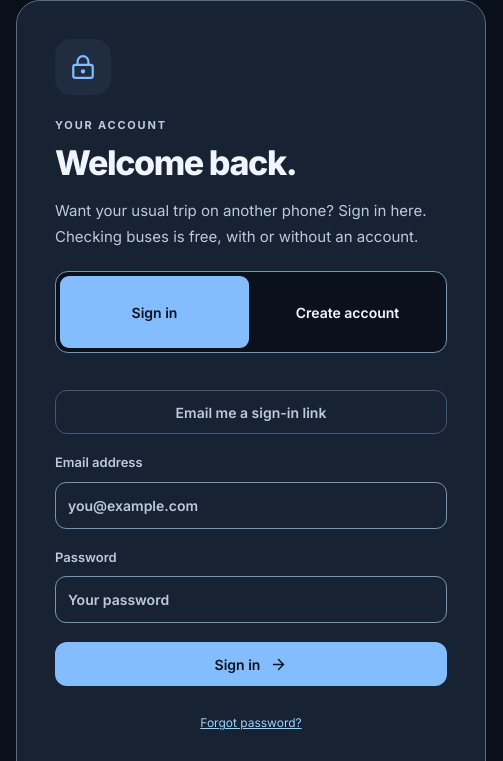
Test: commute UI › creates an account without duplicating commute data in auth metadata
Click the button "Create account" at (348, 312), box top-left (253, 276), bottom-right (442, 348)
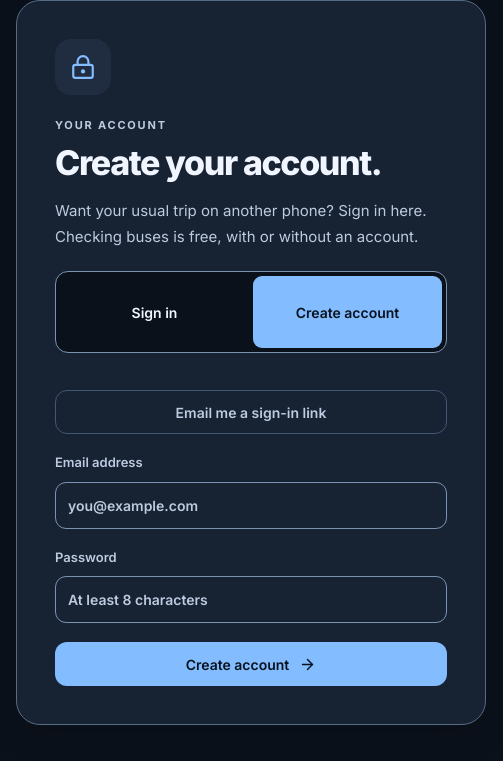
Type "employee@example.com" into the field labelled "Email address" at (251, 505), box top-left (55, 482), bottom-right (447, 529)
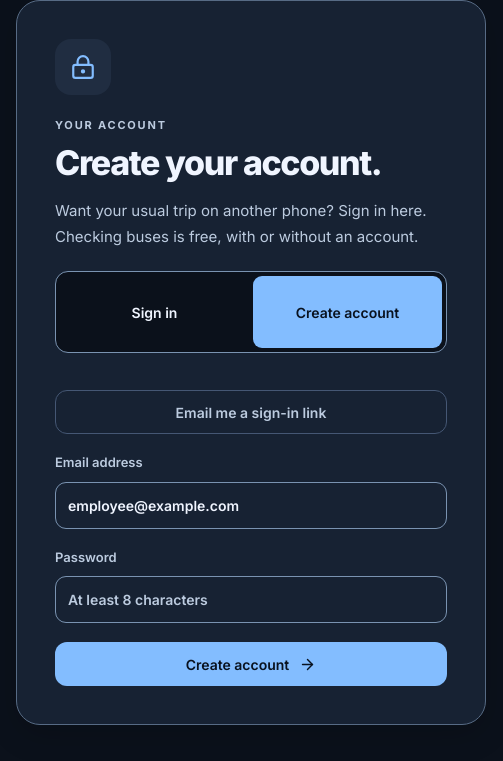
Type "example-password" into the password field labelled "Password" at (251, 600), box top-left (55, 576), bottom-right (447, 623)
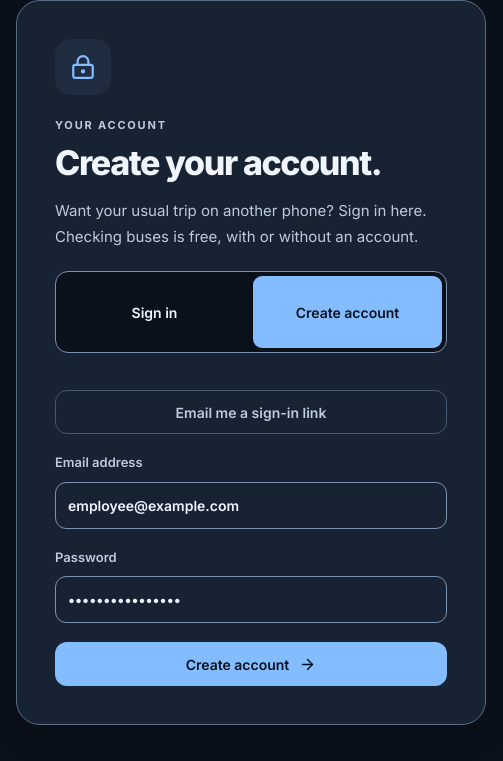
Click the submit button at (251, 664), box top-left (55, 642), bottom-right (447, 686)
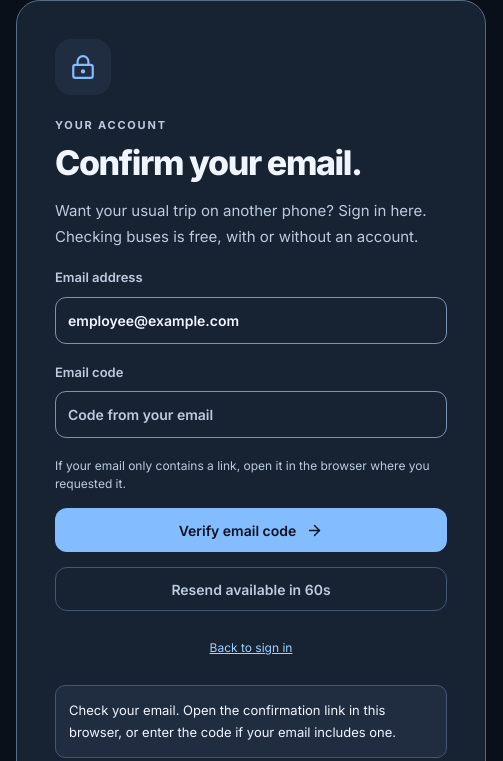
Now the text "Check your email. Open the confirmation link in this browser, or enter the code if your email includes one." is shown, box top-left (69, 702), bottom-right (396, 740)
